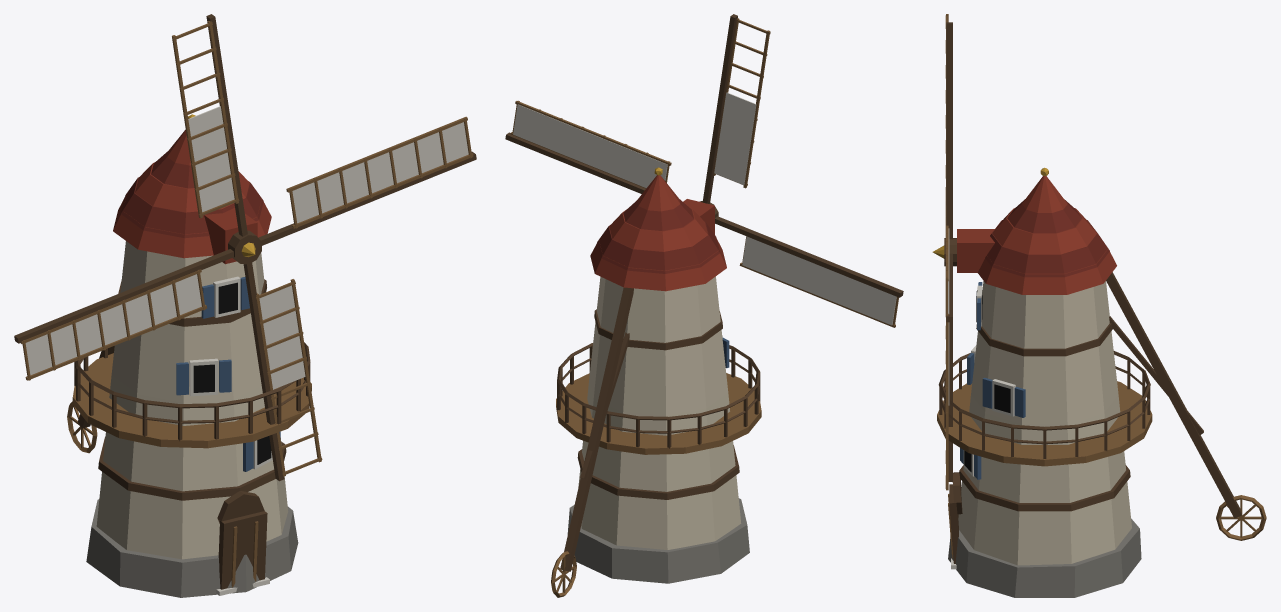
The model's file is windmill.glb.
The picture shows the model from 3 angles, left to right: view 1: azimuth 30°, elevation 25°; view 2: azimuth 150°, elevation 25°; view 3: azimuth 270°, elevation 25°; orthographic projection. The views are drawn at different scales.
Visible parts, largest first — view 1: windmill, Blades; view 2: windmill, Blades; view 3: windmill, Blades.
Part boxes in pixels (<box>): windmill: <box>67,114,311,597</box>; Blades: <box>14,14,476,481</box>; windmill: <box>551,167,761,597</box>; Blades: <box>505,14,903,327</box>; windmill: <box>937,167,1266,597</box>; Blades: <box>932,14,956,490</box>.
Size of the model in its own units: 7.82 by 9.51 by 5.53.
